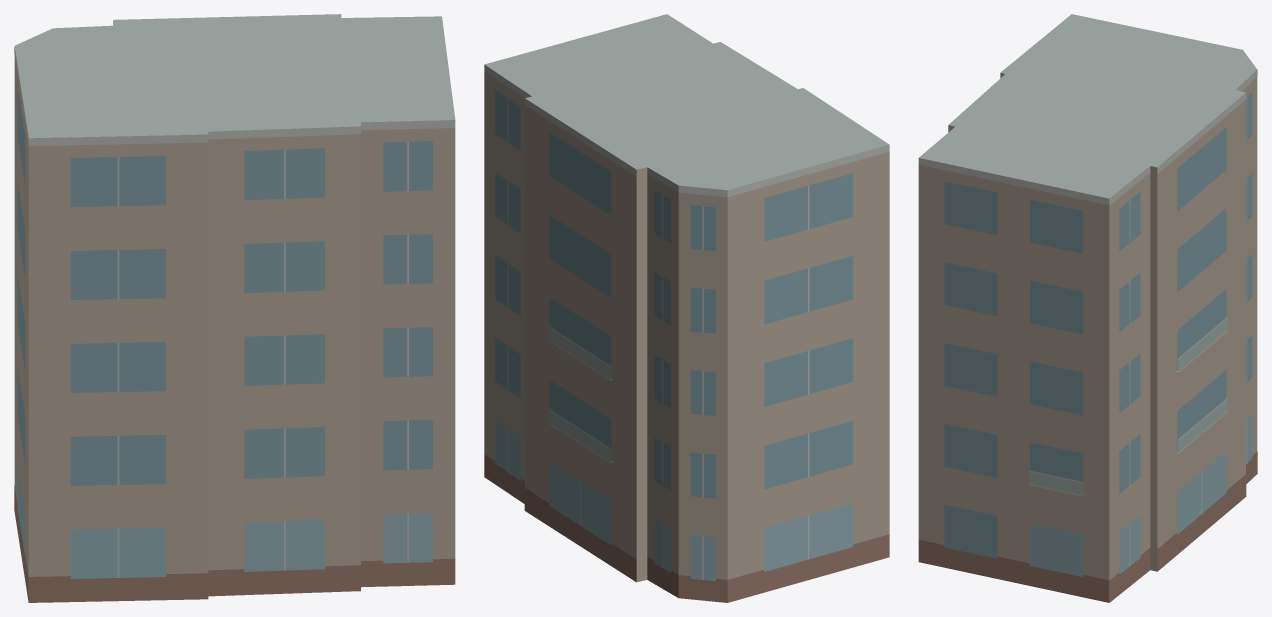
The model's file is survey-upis-32697133.glb.
The picture shows the model from 3 angles, left to right: view 1: azimuth 30°, elevation 25°; view 2: azimuth 150°, elevation 25°; view 3: azimuth 270°, elevation 25°; orthographic projection. The views are drawn at different scales.
Parts seen in each view (by area): view 1: survey-upis-32697133.tmp; view 2: survey-upis-32697133.tmp; view 3: survey-upis-32697133.tmp.
Boxes of the visible parts, x1,y1,x2,y2 form: survey-upis-32697133.tmp: (14,14,455,602); survey-upis-32697133.tmp: (484,14,889,602); survey-upis-32697133.tmp: (918,14,1257,602).
Size of the model in its own units: 14.11 by 14.4 by 10.95.
